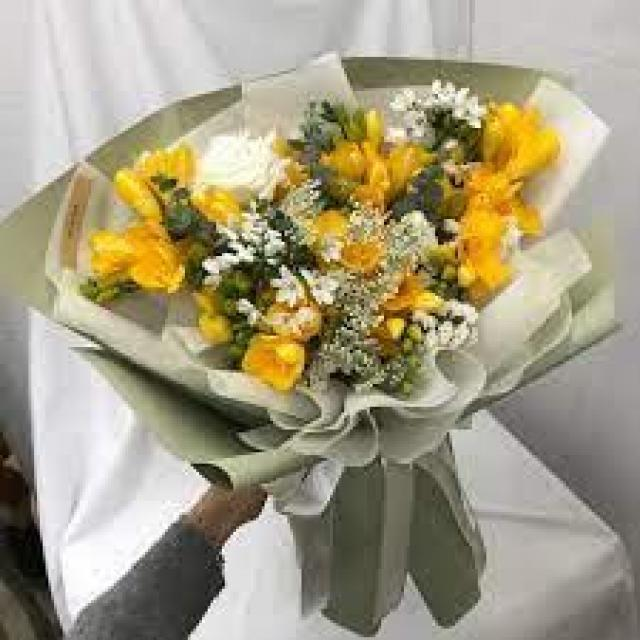freesia: (98, 220, 187, 300), (486, 94, 558, 182), (226, 320, 310, 392)
